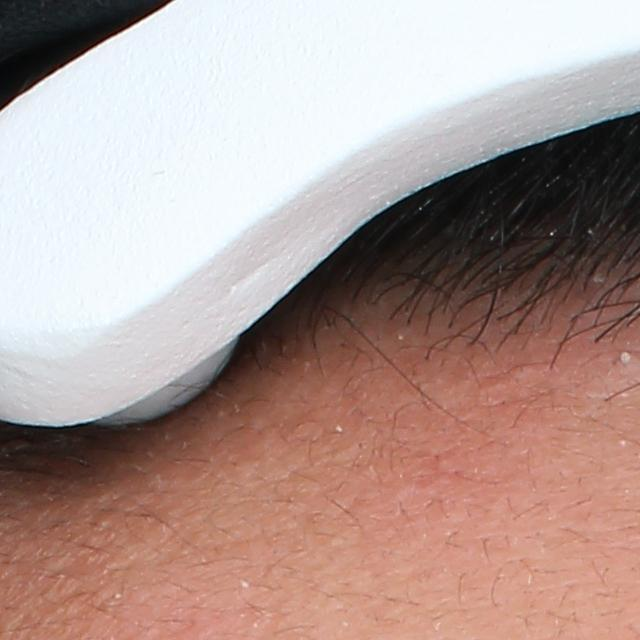pustule: (612, 345, 638, 368)
